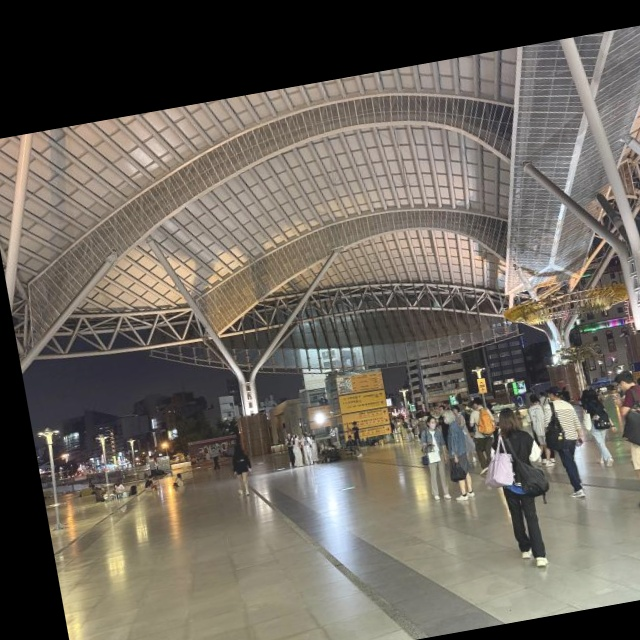Sin_Casco_Mascarrilla: (613, 370, 635, 393), (498, 407, 516, 431), (442, 408, 455, 425), (426, 415, 438, 431)
